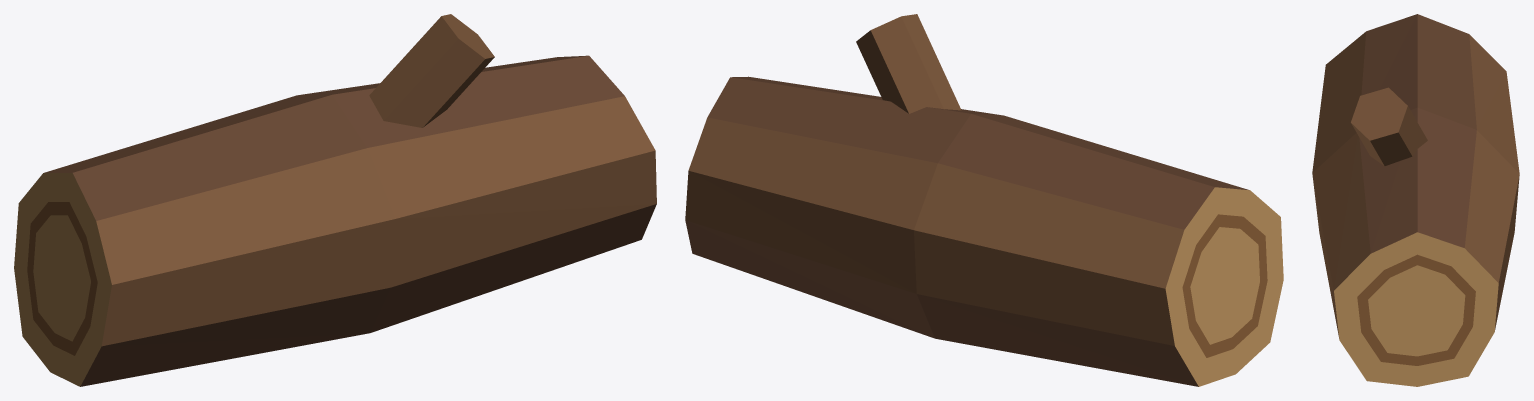
Rendered from resource_wood_quality.glb.
The picture shows the model from 3 angles, left to right: view 1: azimuth 30°, elevation 25°; view 2: azimuth 150°, elevation 25°; view 3: azimuth 270°, elevation 25°; orthographic projection. The views are drawn at different scales.
Parts seen in each view (by area): view 1: resource_wood_quality; view 2: resource_wood_quality; view 3: resource_wood_quality.
Boxes of the visible parts, x1,y1,x2,y2 form: resource_wood_quality: [14, 14, 656, 386]; resource_wood_quality: [685, 14, 1283, 386]; resource_wood_quality: [1312, 14, 1519, 386].
Size of the model in its own units: 0.9989 by 0.4928 by 0.3802.
